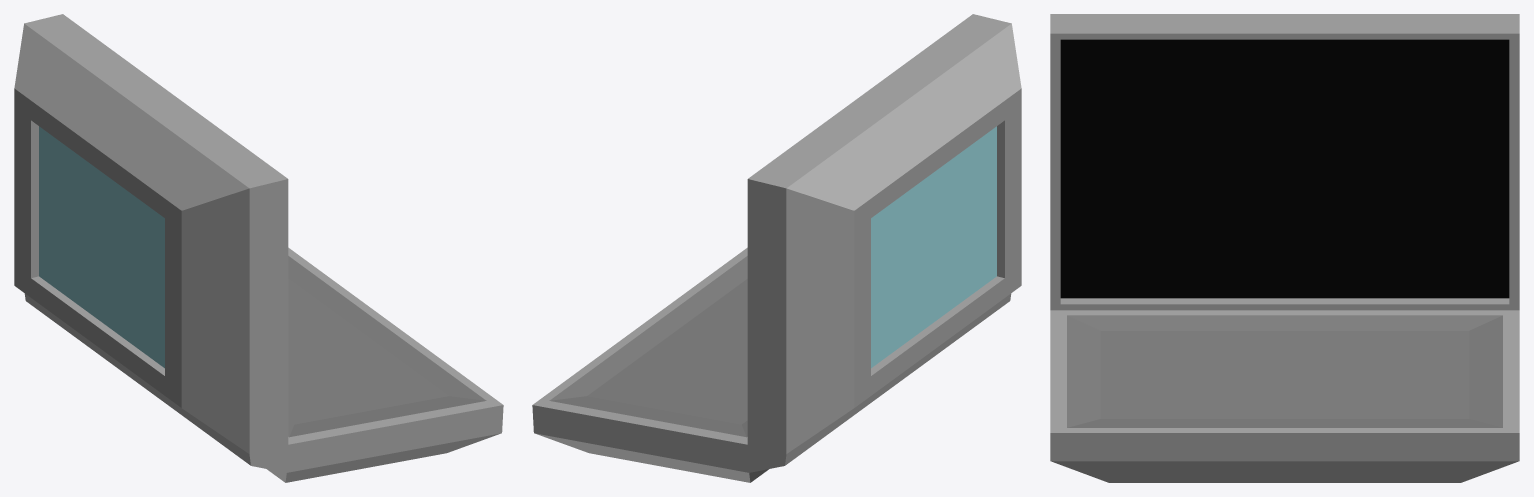
The model's file is Screen Terminal.fbx.
3 renders of one model, left to right at view 1: azimuth 30°, elevation 25°; view 2: azimuth 150°, elevation 25°; view 3: azimuth 270°, elevation 25°, orthographic. The views are drawn at different scales.
Parts seen in each view (by area): view 1: screen_acsess; view 2: screen_acsess; view 3: screen_acsess.
Boxes of the visible parts, left/top/right/bottom form: screen_acsess: left=14, top=14, right=503, bottom=482; screen_acsess: left=532, top=14, right=1021, bottom=482; screen_acsess: left=1050, top=14, right=1519, bottom=482.
Bounding box in the file's own units: 7.1 × 7.89 × 9.47.
